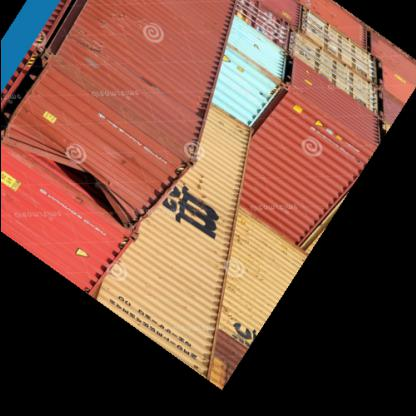Damage: (38, 154, 126, 232)
